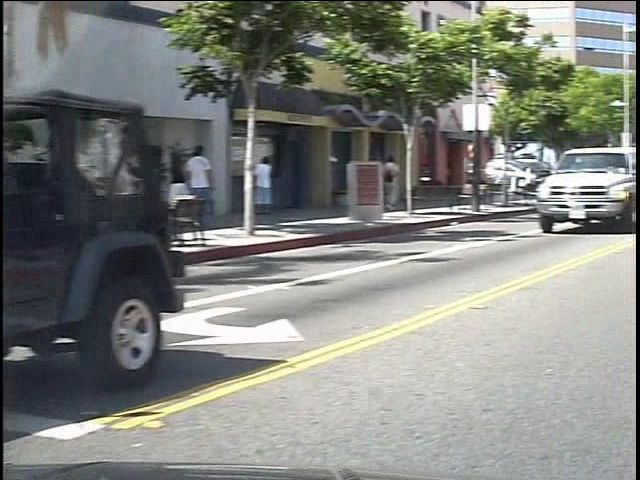person: (197, 142, 238, 235), (268, 144, 292, 226), (178, 147, 202, 199), (398, 153, 418, 215)
